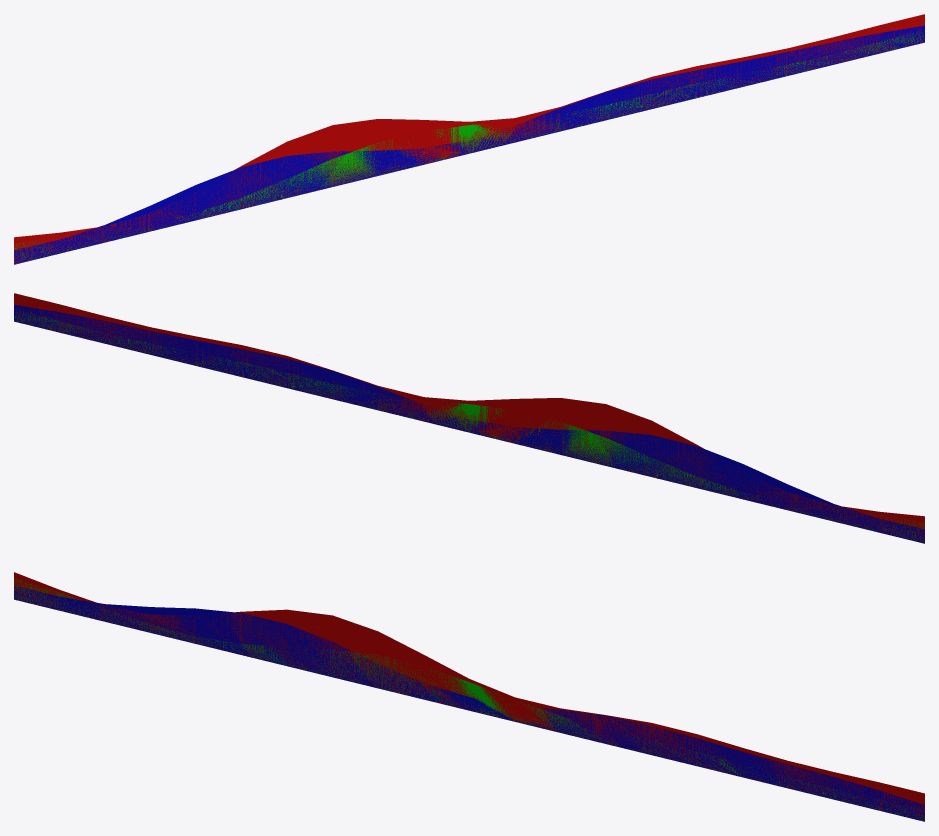
File: far_hills_b.glb
3 views of the same model, one above another, from view 1: azimuth 30°, elevation 25°; view 2: azimuth 150°, elevation 25°; view 3: azimuth 330°, elevation 25° (orthographic).
Visible parts, largest first — view 1: far_hills_b; view 2: far_hills_b; view 3: far_hills_b.
Part boxes in pixels (left/top/right/bottom): far_hills_b: left=14, top=14, right=924, bottom=264; far_hills_b: left=14, top=293, right=924, bottom=543; far_hills_b: left=14, top=572, right=924, bottom=821.
Size of the model in its own units: 8 by 0.52 by 0.
